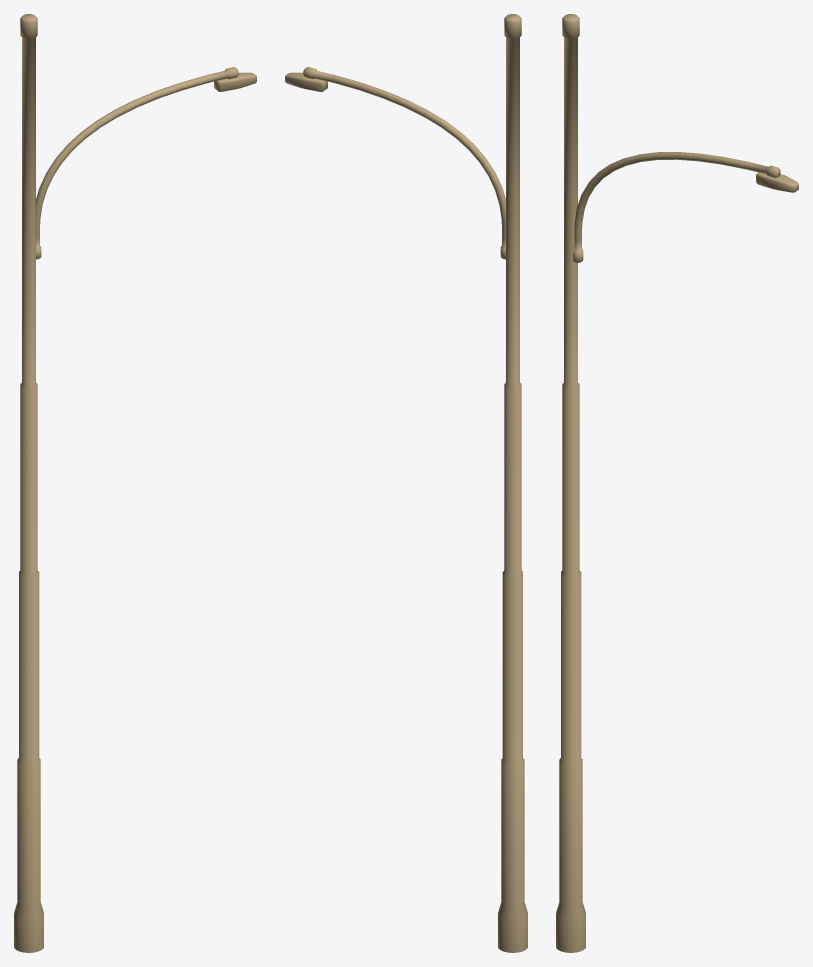
File: streetlight.fbx
3 renders of one model, left to right at view 1: azimuth 30°, elevation 25°; view 2: azimuth 150°, elevation 25°; view 3: azimuth 330°, elevation 25°, orthographic.
Visible parts, largest first — view 1: streetlight_frame; view 2: streetlight_frame; view 3: streetlight_frame.
Part boxes in pixels (x1=…): streetlight_frame: x1=14, y1=14, x2=256, y2=952; streetlight_frame: x1=285, y1=14, x2=527, y2=952; streetlight_frame: x1=556, y1=14, x2=798, y2=952.
Size of the model in its own units: 347 by 1286 by 37.54.
